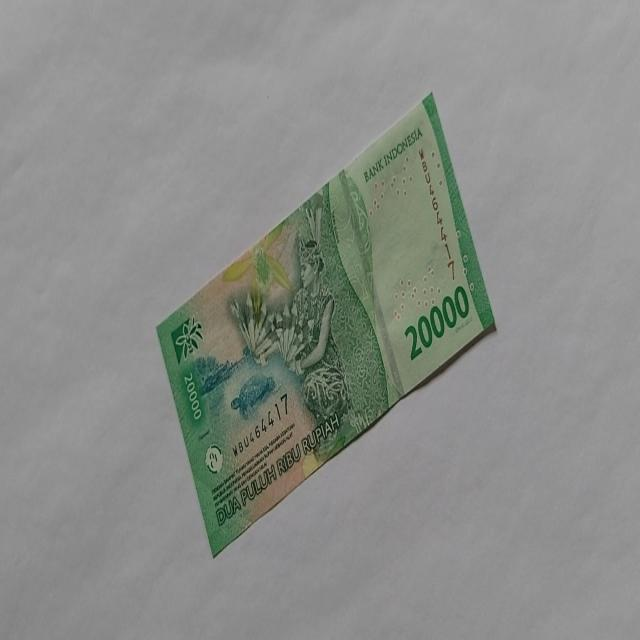dua puluh ribu rupiah: (154, 89, 496, 556), (403, 284, 470, 362)
